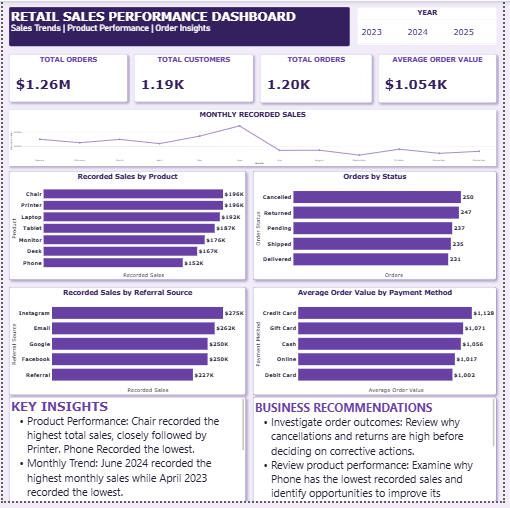

This screenshot's page, from the dashboard's own definition file:
{"tool":"powerbi","page":{"name":"Page 1","canvas":[2500,2500],"ordinal":0},"visuals":[{"type":"cardVisual","title":"TOTAL ORDERS","fields":{"Data":["Sheet1.Total Recorded Sales"]},"box":[32,264,592,240],"z":0},{"type":"cardVisual","title":"TOTAL CUSTOMERS","fields":{"Data":["Sheet1.Total Customers"]},"box":[656,264,596,240],"z":1},{"type":"cardVisual","title":"TOTAL ORDERS","fields":{"Data":["Sheet1.Total Orders"]},"box":[1284,264,560,244],"z":2},{"type":"cardVisual","title":"AVERAGE ORDER VALUE","fields":{"Data":["Sheet1.Average Order Value"]},"box":[1876,264,592,244],"z":3},{"type":"textbox","box":[32,32,1704,196],"z":4},{"type":"lineChart","title":"MONTHLY RECORDED SALES","fields":{"Category":["Sheet1.Date.Variation.Date Hierarchy.Month"],"Y":["Sum(Sheet1.TotalPrice)"]},"box":[32,544,2436,280],"z":5},{"type":"clusteredBarChart","title":"Recorded Sales by Product","fields":{"Category":["Sheet1.Product"],"Y":["Sum(Sheet1.TotalPrice)"]},"box":[32,852,1184,544],"z":6},{"type":"clusteredBarChart","title":"Orders by Status","fields":{"Category":["Sheet1.OrderStatus"],"Y":["CountNonNull(Sheet1.OrderID)"]},"box":[1252,852,1216,544],"z":7},{"type":"clusteredBarChart","title":"Recorded Sales by Referral Source","fields":{"Category":["Sheet1.ReferralSource"],"Y":["Sum(Sheet1.TotalPrice)"]},"box":[32,1428,1184,540],"z":8},{"type":"clusteredBarChart","title":"Average Order Value by Payment Method","fields":{"Category":["Sheet1.PaymentMethod"],"Y":["Avg(Sheet1.TotalPrice)"]},"box":[1252,1428,1216,540],"z":9},{"type":"advancedSlicerVisual","title":"YEAR","fields":{"Values":["Sheet1.Date.Variation.Date Hierarchy.Year"]},"box":[1768,32,700,192],"z":10},{"type":"textbox","box":[32,1978,1184,522],"z":11},{"type":"textbox","box":[1252,1978,1216,522],"z":12}]}

Visuals, with their boxes in screenshot pixels (x1, y1, x2, y2), scaled from the page's 2500x2500 canvas onto the 510x508 screenshot:
"TOTAL ORDERS" cardVisual: {"x1": 7, "y1": 54, "x2": 127, "y2": 102}
"TOTAL CUSTOMERS" cardVisual: {"x1": 134, "y1": 54, "x2": 255, "y2": 102}
"TOTAL ORDERS" cardVisual: {"x1": 262, "y1": 54, "x2": 376, "y2": 103}
"AVERAGE ORDER VALUE" cardVisual: {"x1": 383, "y1": 54, "x2": 503, "y2": 103}
textbox: {"x1": 7, "y1": 7, "x2": 354, "y2": 46}
"MONTHLY RECORDED SALES" lineChart: {"x1": 7, "y1": 111, "x2": 503, "y2": 167}
"Recorded Sales by Product" clusteredBarChart: {"x1": 7, "y1": 173, "x2": 248, "y2": 284}
"Orders by Status" clusteredBarChart: {"x1": 255, "y1": 173, "x2": 503, "y2": 284}
"Recorded Sales by Referral Source" clusteredBarChart: {"x1": 7, "y1": 290, "x2": 248, "y2": 400}
"Average Order Value by Payment Method" clusteredBarChart: {"x1": 255, "y1": 290, "x2": 503, "y2": 400}
"YEAR" advancedSlicerVisual: {"x1": 361, "y1": 7, "x2": 503, "y2": 46}
textbox: {"x1": 7, "y1": 402, "x2": 248, "y2": 507}
textbox: {"x1": 255, "y1": 402, "x2": 503, "y2": 507}
